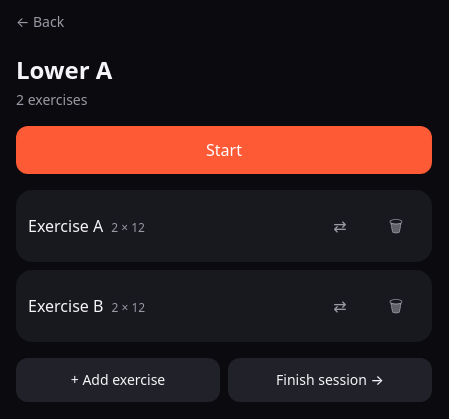
Test: SessionOverview › deleting an exercise removes it from the list without navigating away
Expected: the text "Exercise A" is shown, [28,215,103,237]
Click the button named "Delete Exercise A" at (396, 226), box [372,202,420,250]
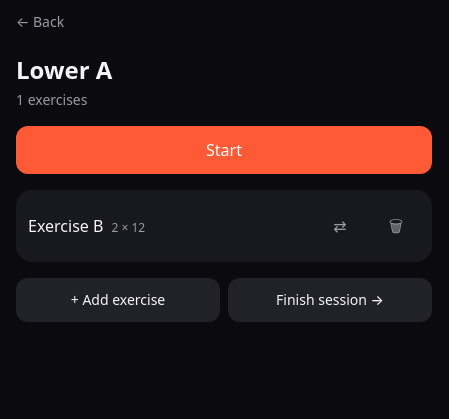
Expected: the text "Exercise B" is shown, [28,215,103,237]
Expected: the button "Exercise A" is gone
Expected: the text "1 exercises" is shown, [16,90,87,110]
